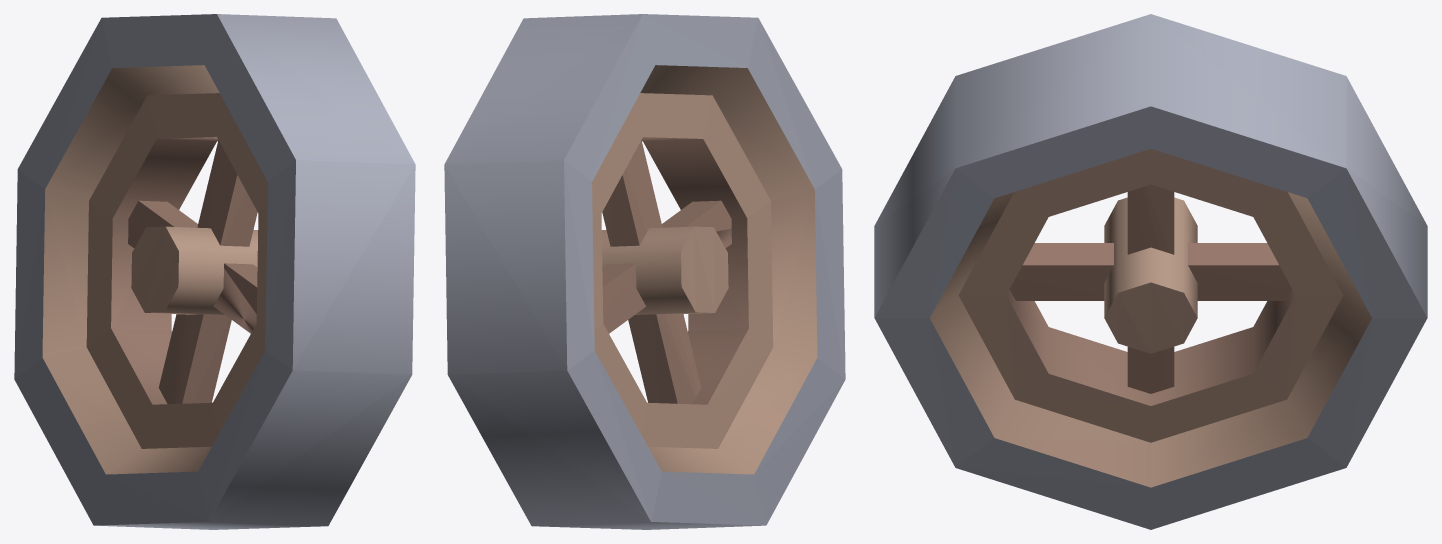
Rendered from kenney_wheel.fbx.
3 renders of one model, left to right at view 1: azimuth 30°, elevation 25°; view 2: azimuth 150°, elevation 25°; view 3: azimuth 270°, elevation 25°, orthographic.
Visible parts, largest first — view 1: wheel; view 2: wheel; view 3: wheel.
Boxes of the visible parts, x1,y1,x2,y2 form: wheel: [14, 14, 415, 529]; wheel: [444, 14, 845, 529]; wheel: [874, 14, 1427, 529].
Size of the model in its own units: 23.84 by 48.33 by 46.78.
